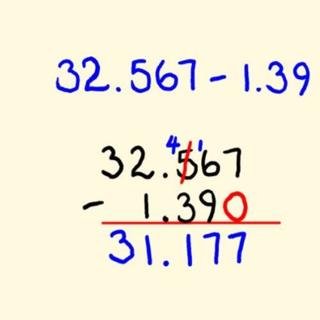.: (111, 78, 126, 98), (157, 166, 169, 184), (160, 253, 172, 271), (252, 83, 264, 95), (161, 210, 170, 222)
1: (139, 231, 159, 274), (177, 232, 197, 269), (137, 192, 158, 223), (239, 55, 250, 97)
2: (123, 137, 155, 183), (79, 50, 111, 95)
3: (102, 227, 136, 270), (48, 54, 79, 94), (94, 143, 124, 180), (267, 55, 289, 103), (174, 189, 197, 223)
5: (128, 51, 152, 97)
6: (153, 56, 181, 96)
7: (225, 226, 251, 267), (177, 52, 200, 98), (220, 139, 247, 178), (201, 229, 223, 266)
9: (292, 55, 313, 102), (197, 189, 219, 220)
